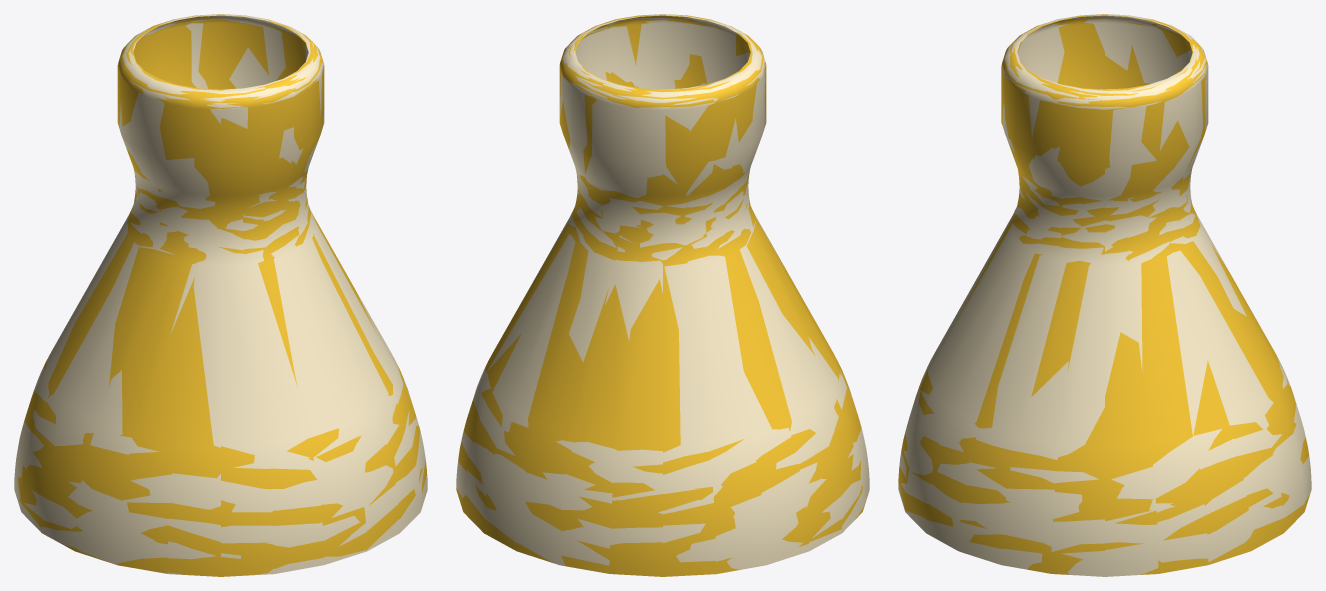
File: original_3.obj
3 views of the same model, side by side, from view 1: azimuth 30°, elevation 25°; view 2: azimuth 150°, elevation 25°; view 3: azimuth 270°, elevation 25° (orthographic).
Parts seen in each view (by area): view 1: #ID6; view 2: #ID6; view 3: #ID6.
Part boxes in pixels (box(x1,y1,x2,y2)): #ID6: box(14, 14, 427, 576); #ID6: box(456, 14, 869, 576); #ID6: box(898, 14, 1311, 576).
Bounding box in the file's own units: 0.5194 × 0.6061 × 0.5193.
